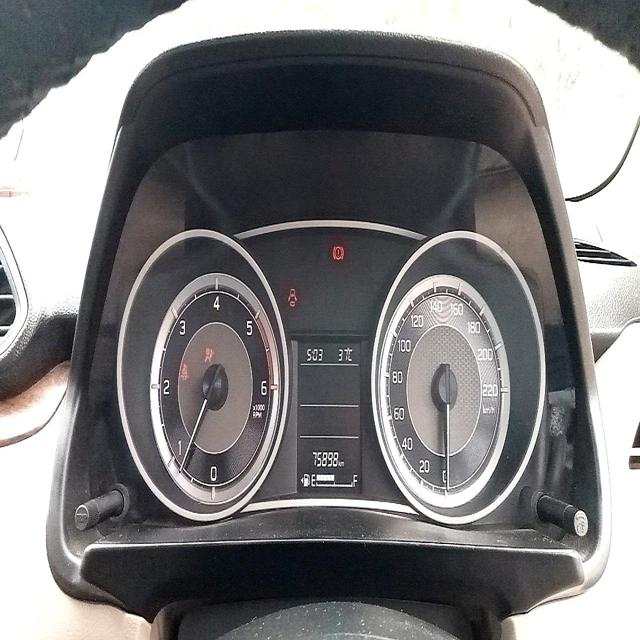odometer: (311, 447, 341, 471)
